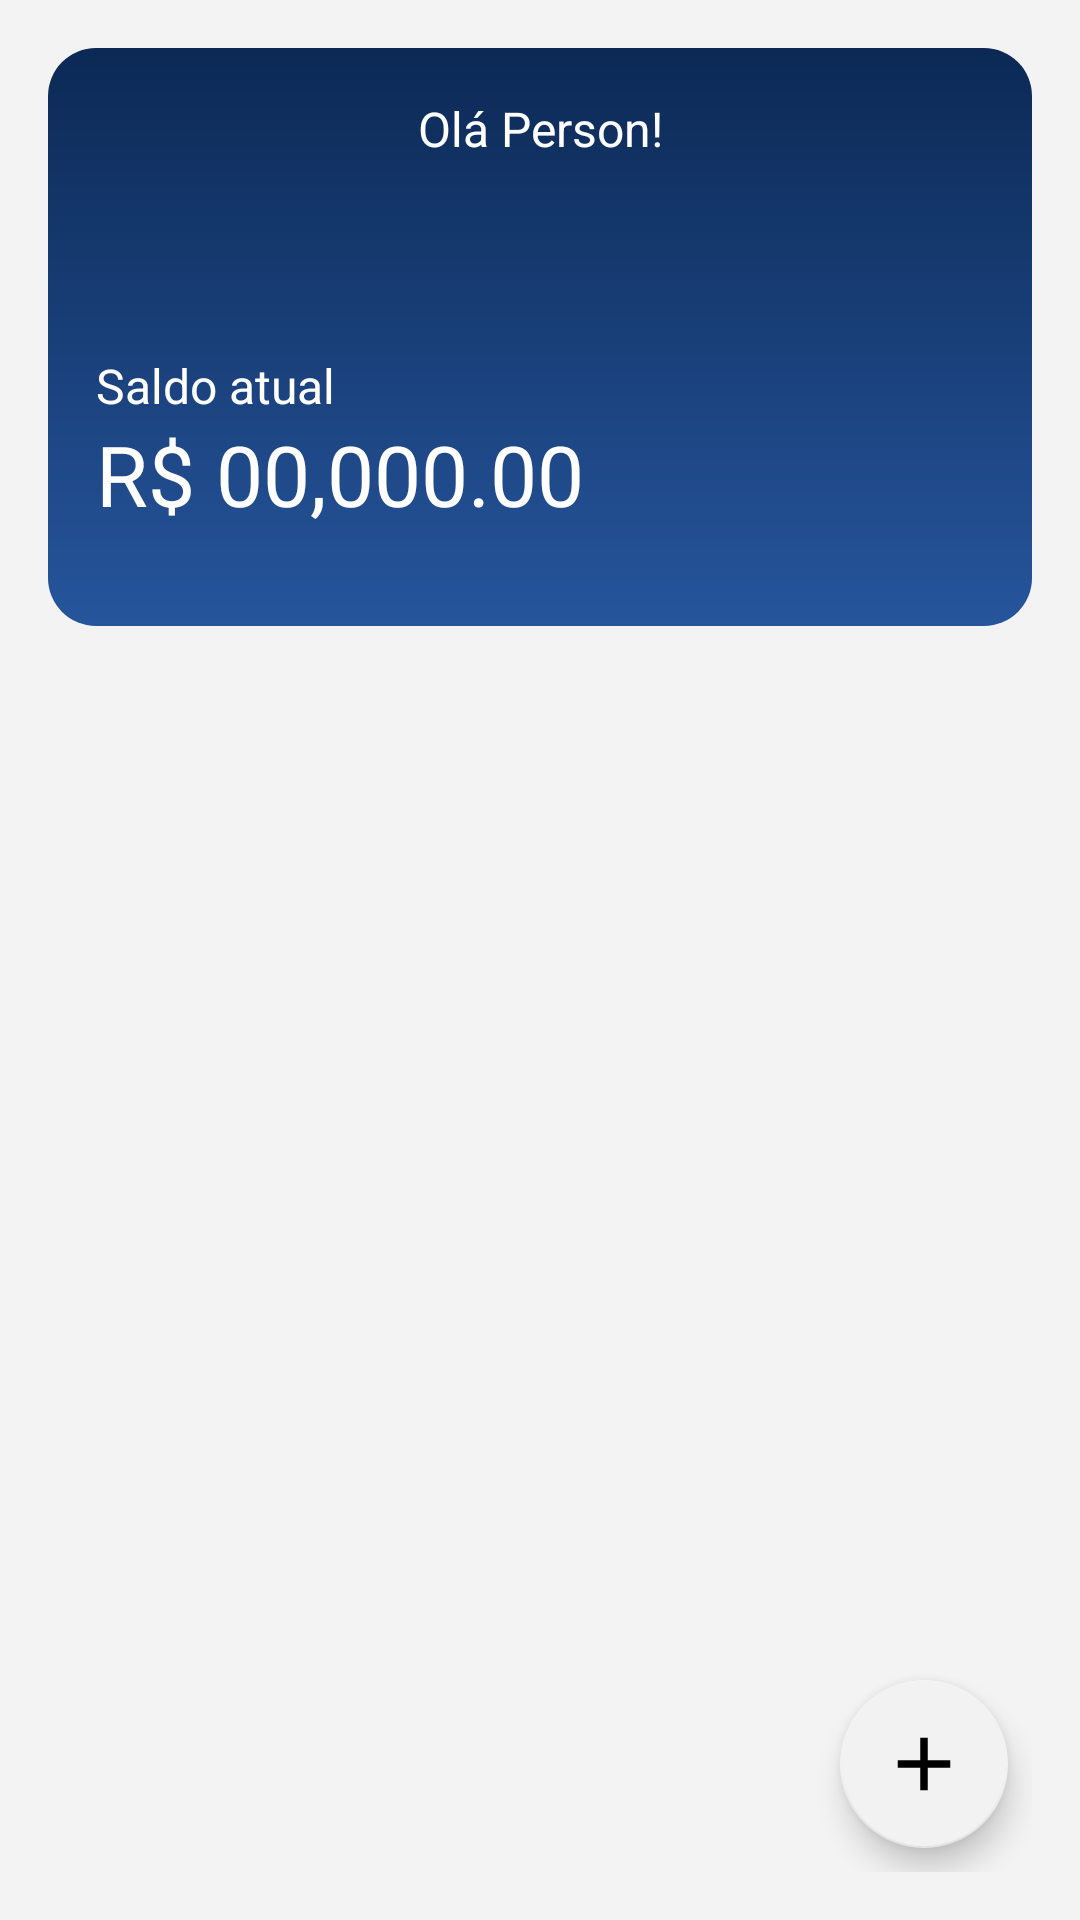

Icon bounding boxes for this 1080px x 1920px phone screenshot, format (x1, y1, x2, y2):
Adicionar: (846, 1737, 1008, 1848)
